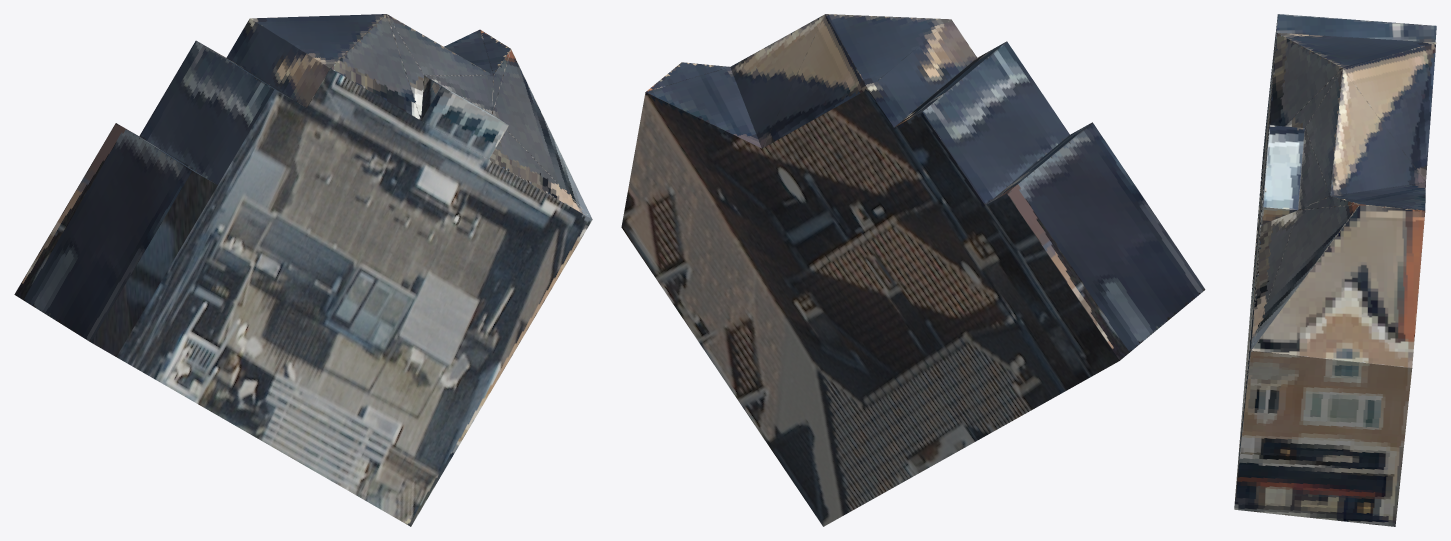
3 views of the same model, side by side, from view 1: azimuth 30°, elevation 25°; view 2: azimuth 150°, elevation 25°; view 3: azimuth 270°, elevation 25° (orthographic). The views are drawn at different scales.
Parts seen in each view (by area): view 1: BAG_0599100000671718 (×5); view 2: BAG_0599100000671718 (×5); view 3: BAG_0599100000671718 (×5).
Part boxes in pixels (left/top/right/bottom): BAG_0599100000671718 (×5): left=14, top=14, right=592, bottom=526; BAG_0599100000671718 (×5): left=621, top=14, right=1205, bottom=526; BAG_0599100000671718 (×5): left=1234, top=14, right=1436, bottom=526.
Bounding box in the file's own units: 18.32 × 16.76 × 6.55.
6 materials, 6 textured.
